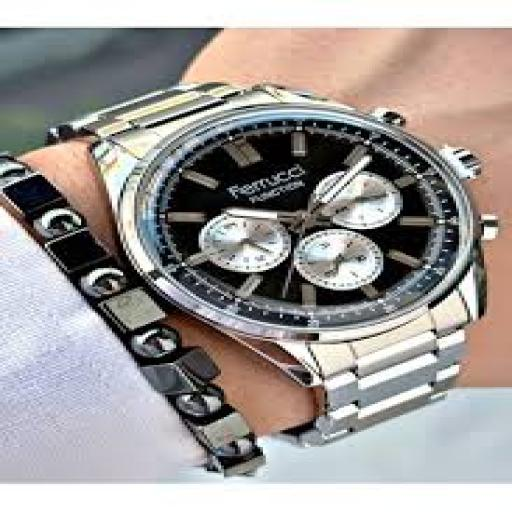KolSaati: (8, 42, 512, 462)
